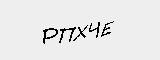Е: (102, 18, 116, 38)
П: (57, 24, 74, 44)
Р: (38, 24, 59, 46)
Х: (73, 23, 88, 43)
Ч: (86, 21, 101, 41)
